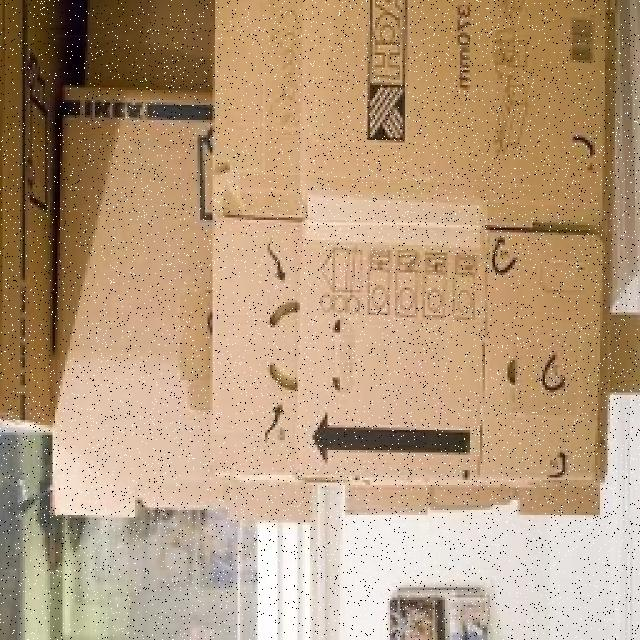box: (205, 2, 640, 490), (43, 90, 345, 509), (3, 0, 85, 438), (80, 0, 218, 98)
